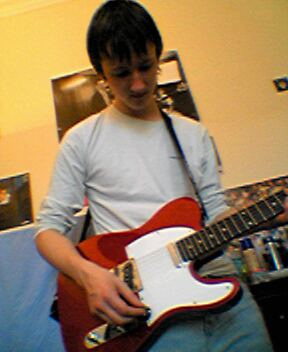person: (35, 1, 288, 352)
